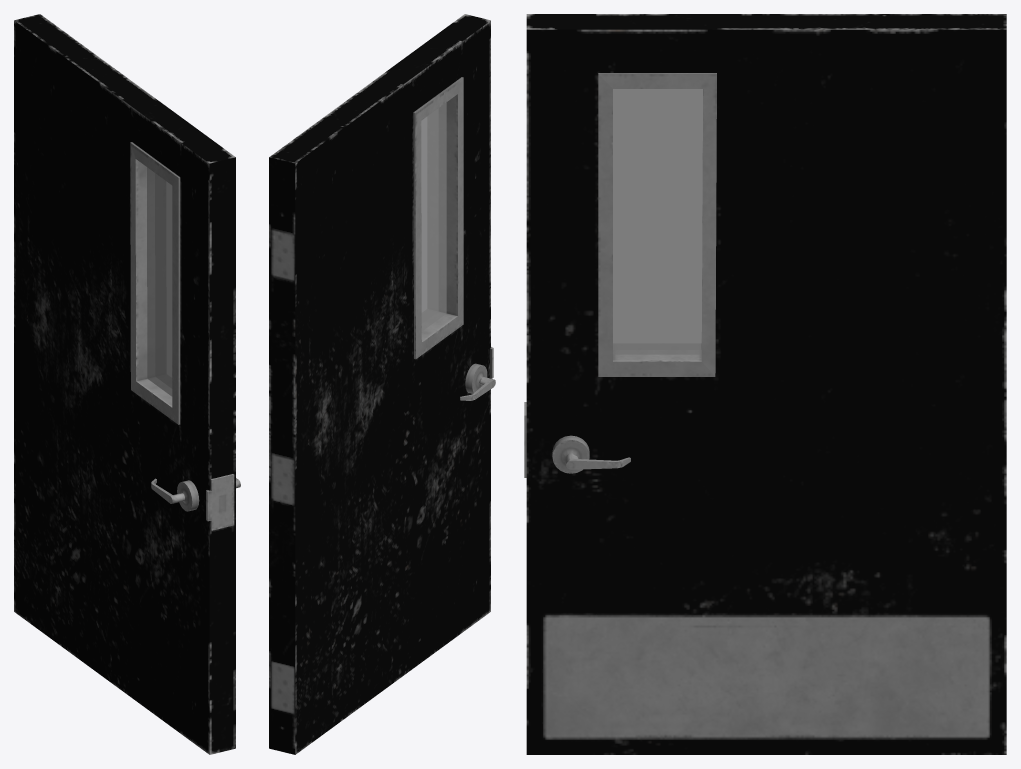
The model's file is Door_C.fbx.
The picture shows the model from 3 angles, left to right: view 1: azimuth 30°, elevation 25°; view 2: azimuth 150°, elevation 25°; view 3: azimuth 270°, elevation 25°; orthographic projection. The views are drawn at different scales.
Parts seen in each view (by area): view 1: Door_C_LOD0; view 2: Door_C_LOD0; view 3: Door_C_LOD0.
Boxes of the visible parts, x1,y1,x2,y2 form: Door_C_LOD0: (14, 14, 240, 754); Door_C_LOD0: (269, 14, 495, 754); Door_C_LOD0: (524, 14, 1006, 754).
Size of what is drawn, in the model's own units: 30.22 by 250 by 151.
